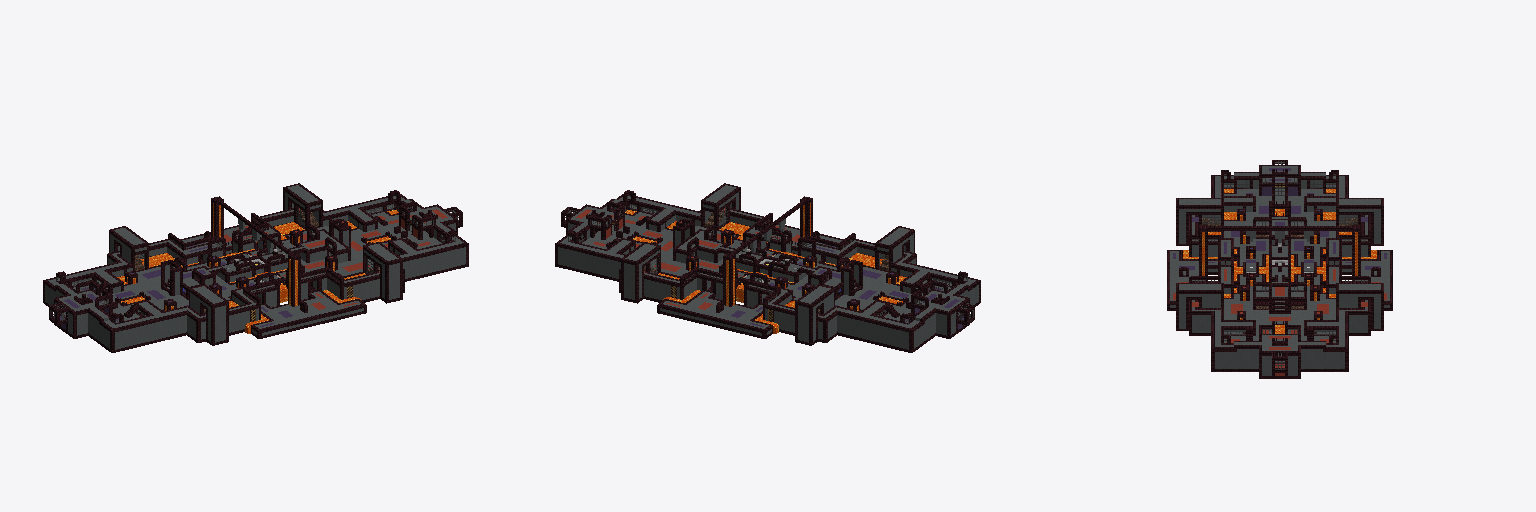
The picture shows the model from 3 angles: view 1: azimuth 30°, elevation 25°; view 2: azimuth 150°, elevation 25°; view 3: azimuth 270°, elevation 25°; orthographic projection.
Size of the model in its own units: 147 by 20 by 71.
20 materials, 20 textured.